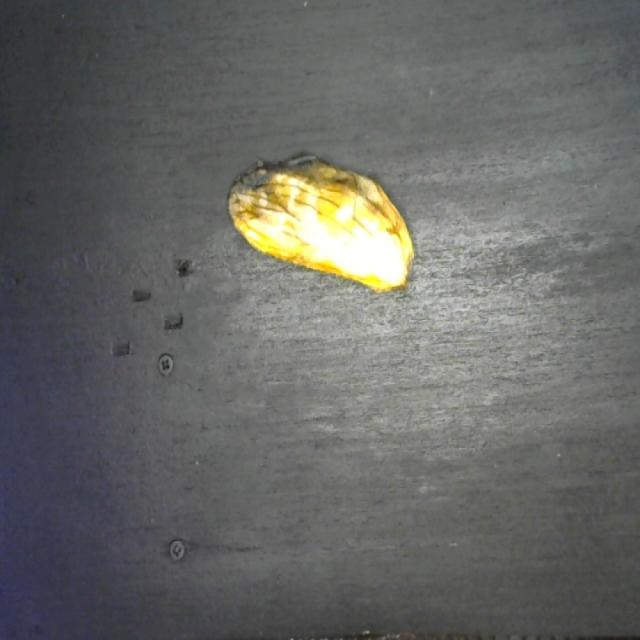biodegradable: (224, 148, 420, 300)
